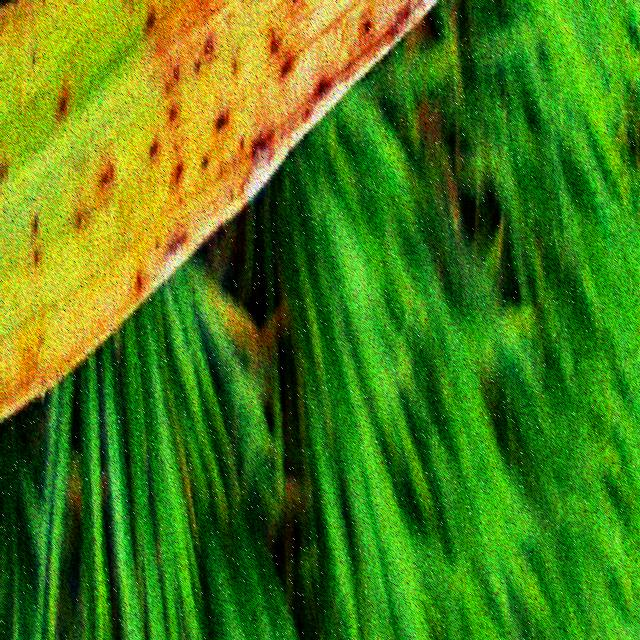NBS: (213, 107, 230, 134), (280, 52, 294, 78), (168, 233, 186, 253), (269, 30, 282, 56), (101, 165, 113, 188), (362, 15, 373, 36), (59, 96, 67, 116), (293, 0, 307, 8), (202, 0, 206, 3)
